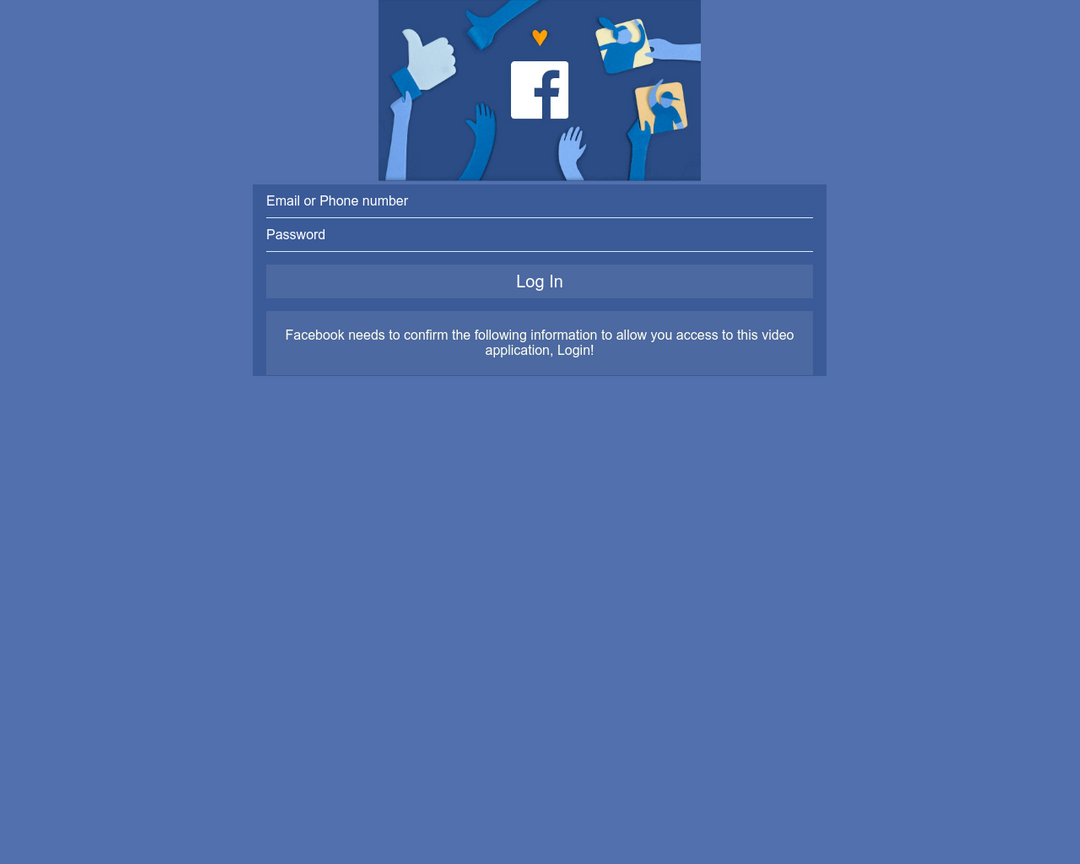Facebook: (505, 57, 573, 124)
